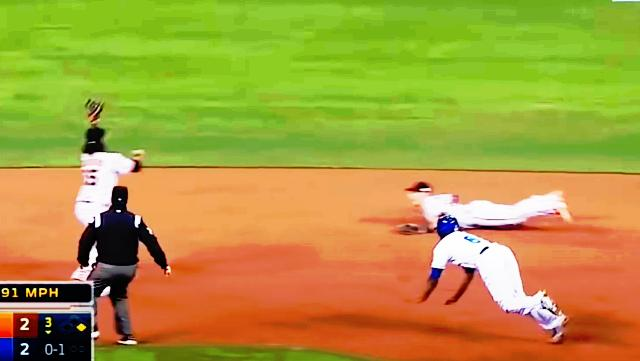jatuh: (414, 211, 572, 347), (393, 178, 577, 238)
